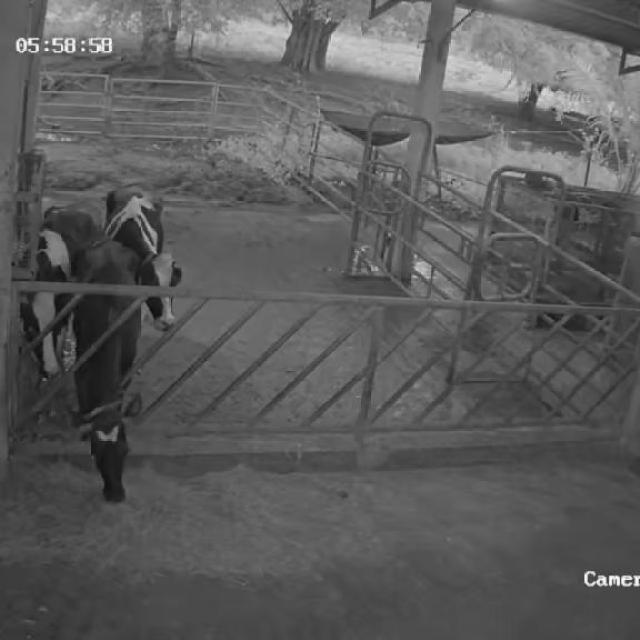feeding: (74, 239, 146, 515)
standing: (8, 200, 96, 388), (100, 180, 183, 334)
